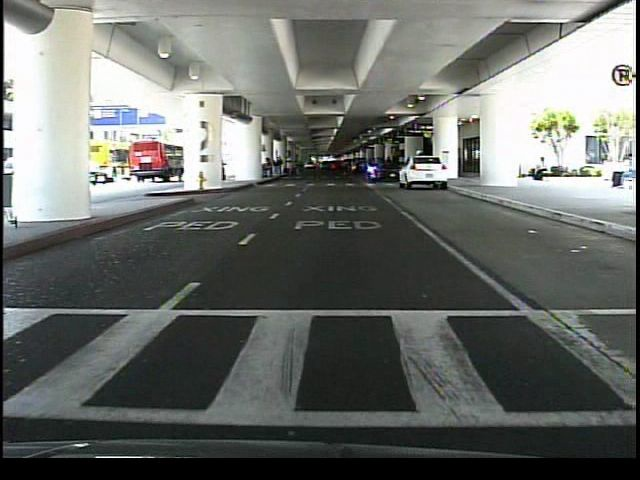person: (526, 153, 554, 190)
